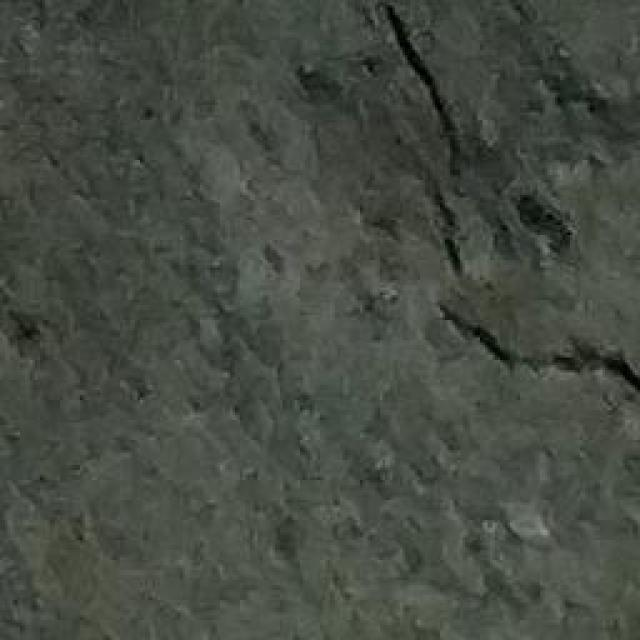Longitudinal: (373, 0, 479, 301)
Transverse: (431, 308, 640, 426)
